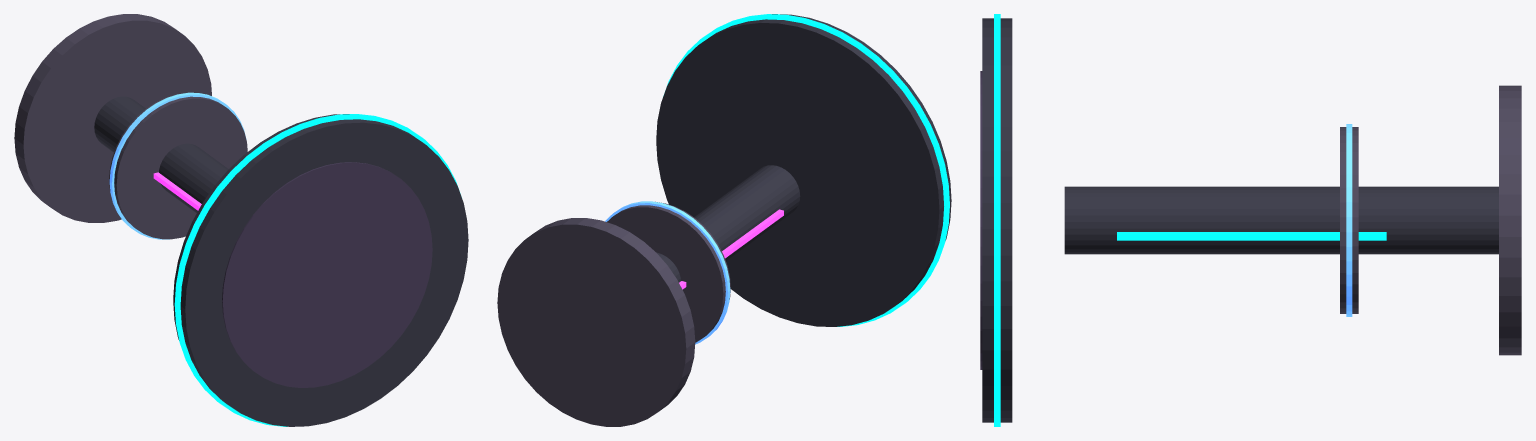
File: circular_high_bar_table.glb
3 renders of one model, left to right at view 1: azimuth 30°, elevation 25°; view 2: azimuth 150°, elevation 25°; view 3: azimuth 270°, elevation 25°, orthographic. The views are drawn at different scales.
Visible parts, largest first — view 1: table_top_inset, table_top_shell, base_disc, footrest_collar, center_pedestal, top_outer_trim_band, footrest_trim_band, pedestal_trim_back; view 2: table_top_shell, base_disc, footrest_collar, center_pedestal, top_outer_trim_band, footrest_trim_band, pedestal_trim_back; view 3: center_pedestal, table_top_shell, base_disc, top_outer_trim_band, footrest_collar, pedestal_trim_front, footrest_trim_band, table_top_inset.
Boxes of the visible parts, box(x1,y1,x2,y2) form: table_top_inset: box(222, 162, 432, 387); table_top_shell: box(173, 114, 468, 426); base_disc: box(14, 14, 211, 222); footrest_collar: box(109, 93, 247, 239); center_pedestal: box(94, 96, 228, 212); top_outer_trim_band: box(174, 114, 460, 426); footrest_trim_band: box(109, 92, 246, 239); pedestal_trim_back: box(153, 172, 201, 210); table_top_shell: box(656, 14, 951, 326); base_disc: box(497, 218, 695, 426); footrest_collar: box(607, 201, 730, 342); center_pedestal: box(657, 165, 800, 282); top_outer_trim_band: box(663, 14, 949, 326); footrest_trim_band: box(605, 201, 730, 344); pedestal_trim_back: box(679, 209, 783, 289); center_pedestal: box(1064, 186, 1498, 254); table_top_shell: box(982, 18, 1012, 422); base_disc: box(1499, 85, 1521, 355); top_outer_trim_band: box(994, 14, 1000, 426); footrest_collar: box(1340, 127, 1358, 313); pedestal_trim_front: box(1117, 232, 1386, 240); footrest_trim_band: box(1346, 124, 1352, 316); table_top_inset: box(980, 71, 982, 369).
Bounding box in the file's own units: 1.1 × 1.1 × 1.45.
